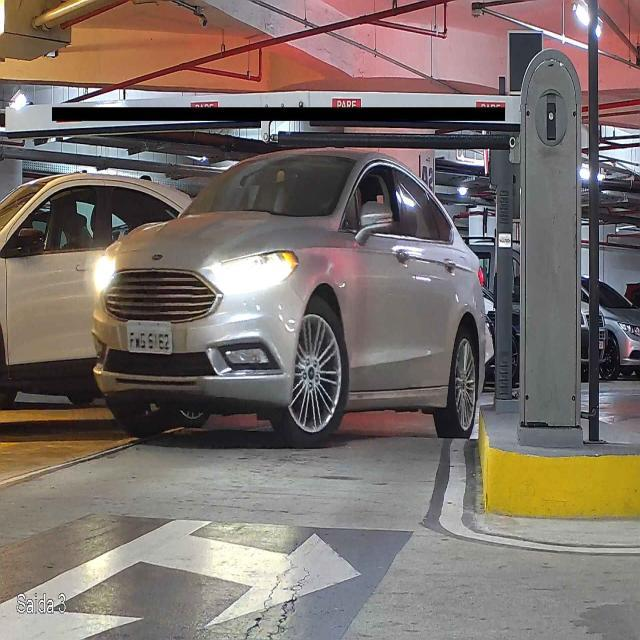old_plate: (125, 319, 174, 356)
